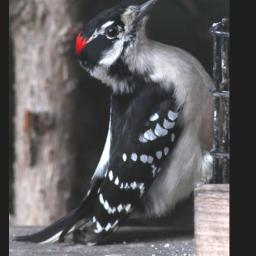Woodpecker: (12, 0, 223, 245)
